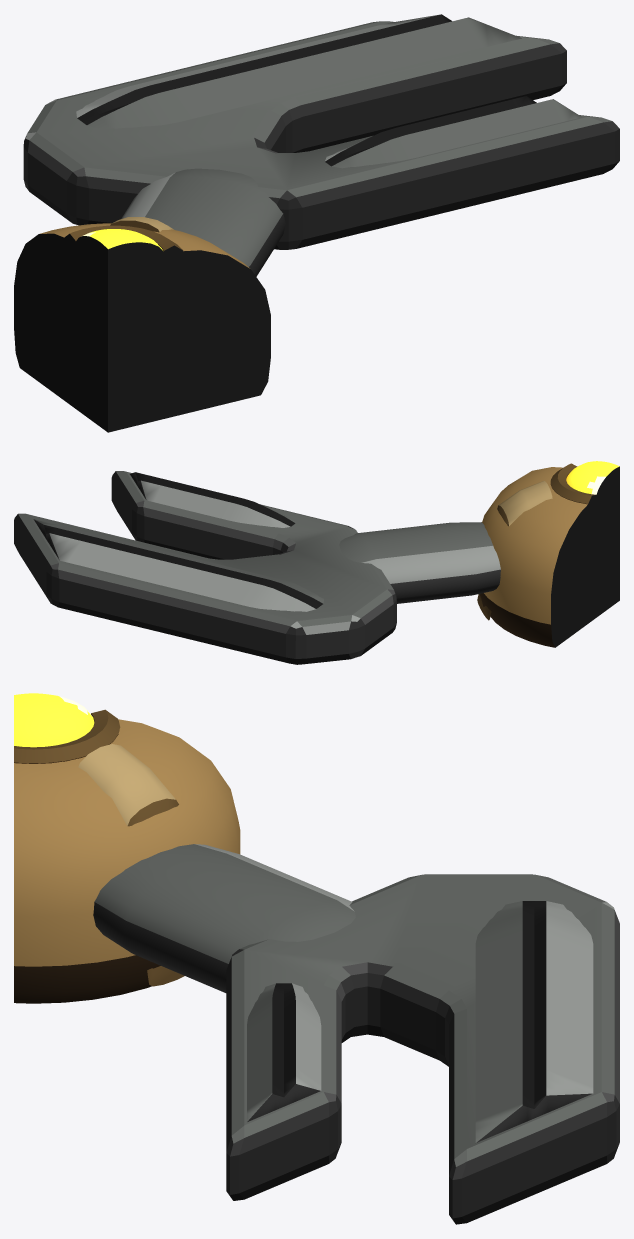
The model's file is spin_claw_3.glb.
The picture shows the model from 3 angles, top to bottom: view 1: azimuth 30°, elevation 25°; view 2: azimuth 150°, elevation 25°; view 3: azimuth 270°, elevation 25°; orthographic projection. The views are drawn at different scales.
Visible parts, largest first — view 1: spin_claw_3_arm1_plate, spin_claw_3_hub_dome, spin_claw_3_arm1_ridge0, spin_claw_3_arm1_rod, spin_claw_3_arm1_ridge1, spin_claw_3_hub_lens, spin_claw_3_hub_bezel; view 2: spin_claw_3_arm1_plate, spin_claw_3_hub_dome, spin_claw_3_arm1_rod, spin_claw_3_arm1_ridge0, spin_claw_3_arm1_ridge1, spin_claw_3_hub_lens, spin_claw_3_hub_rib1, spin_claw_3_hub_bezel; view 3: spin_claw_3_arm1_plate, spin_claw_3_hub_dome, spin_claw_3_arm1_ridge0, spin_claw_3_arm1_rod, spin_claw_3_arm1_ridge1, spin_claw_3_hub_rib1, spin_claw_3_hub_lens, spin_claw_3_hub_bezel.
Boxes of the visible parts, x1,y1,x2,y2 form: spin_claw_3_arm1_plate: (23, 21, 619, 249); spin_claw_3_hub_dome: (14, 223, 270, 432); spin_claw_3_arm1_ridge0: (76, 14, 521, 128); spin_claw_3_arm1_rod: (121, 168, 285, 276); spin_claw_3_arm1_ridge1: (325, 96, 581, 168); spin_claw_3_hub_lens: (75, 229, 165, 283); spin_claw_3_hub_bezel: (64, 225, 183, 280); spin_claw_3_arm1_plate: (14, 471, 396, 664); spin_claw_3_hub_dome: (479, 467, 619, 647); spin_claw_3_arm1_rod: (339, 522, 500, 603); spin_claw_3_arm1_ridge0: (33, 519, 323, 611); spin_claw_3_arm1_ridge1: (130, 472, 295, 527); spin_claw_3_hub_lens: (566, 461, 619, 502); spin_claw_3_hub_rib1: (477, 481, 552, 620); spin_claw_3_hub_bezel: (550, 463, 615, 504); spin_claw_3_arm1_plate: (226, 874, 619, 1224); spin_claw_3_hub_dome: (14, 719, 240, 1003); spin_claw_3_arm1_ridge0: (475, 901, 593, 1142); spin_claw_3_arm1_rod: (93, 844, 355, 992); spin_claw_3_arm1_ridge1: (247, 983, 321, 1121); spin_claw_3_hub_rib1: (78, 744, 184, 986); spin_claw_3_hub_lens: (14, 693, 94, 747); spin_claw_3_hub_bezel: (14, 709, 119, 763).
Bounding box in the file's own units: 22.53 × 6.22 × 15.4.
